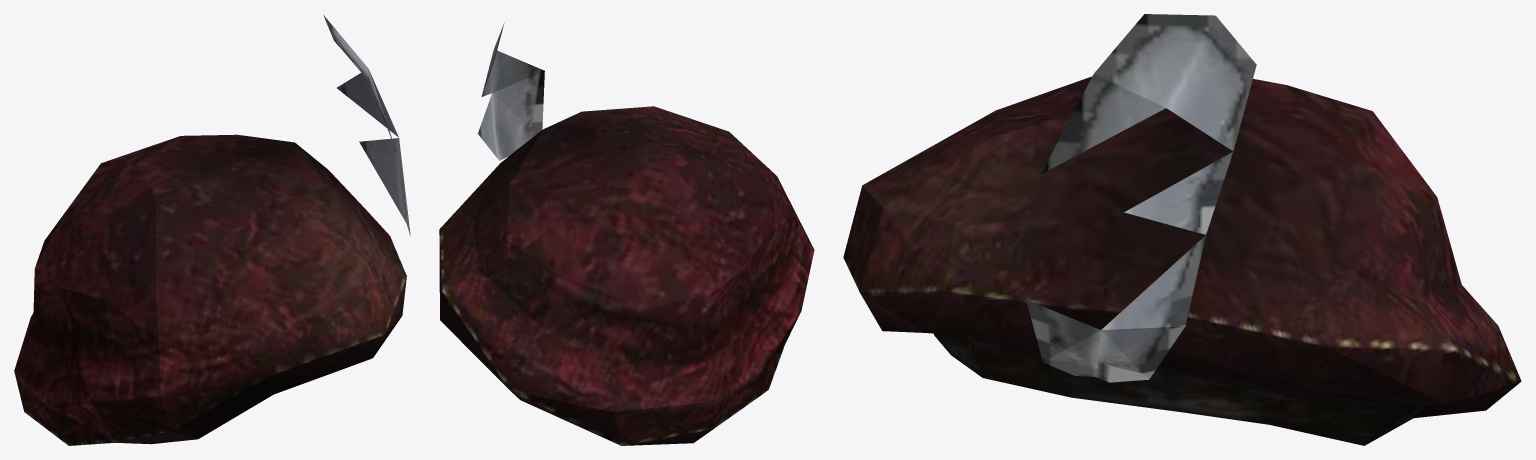
Rendered from HAT_ARMOR_MERCHANT_03.glb.
The picture shows the model from 3 angles, left to right: view 1: azimuth 30°, elevation 25°; view 2: azimuth 150°, elevation 25°; view 3: azimuth 270°, elevation 25°; orthographic projection. The views are drawn at different scales.
Parts seen in each view (by area): view 1: HAT_ARMOR_MERCHANT_03; view 2: HAT_ARMOR_MERCHANT_03; view 3: HAT_ARMOR_MERCHANT_03.
Part boxes in pixels (x1=…): HAT_ARMOR_MERCHANT_03: x1=14, y1=14, x2=410, y2=445; HAT_ARMOR_MERCHANT_03: x1=439, y1=23, x2=814, y2=445; HAT_ARMOR_MERCHANT_03: x1=843, y1=14, x2=1521, y2=445.
Size of the model in its own units: 0.2726 by 0.3049 by 0.3367.
1 material, 1 textured.
